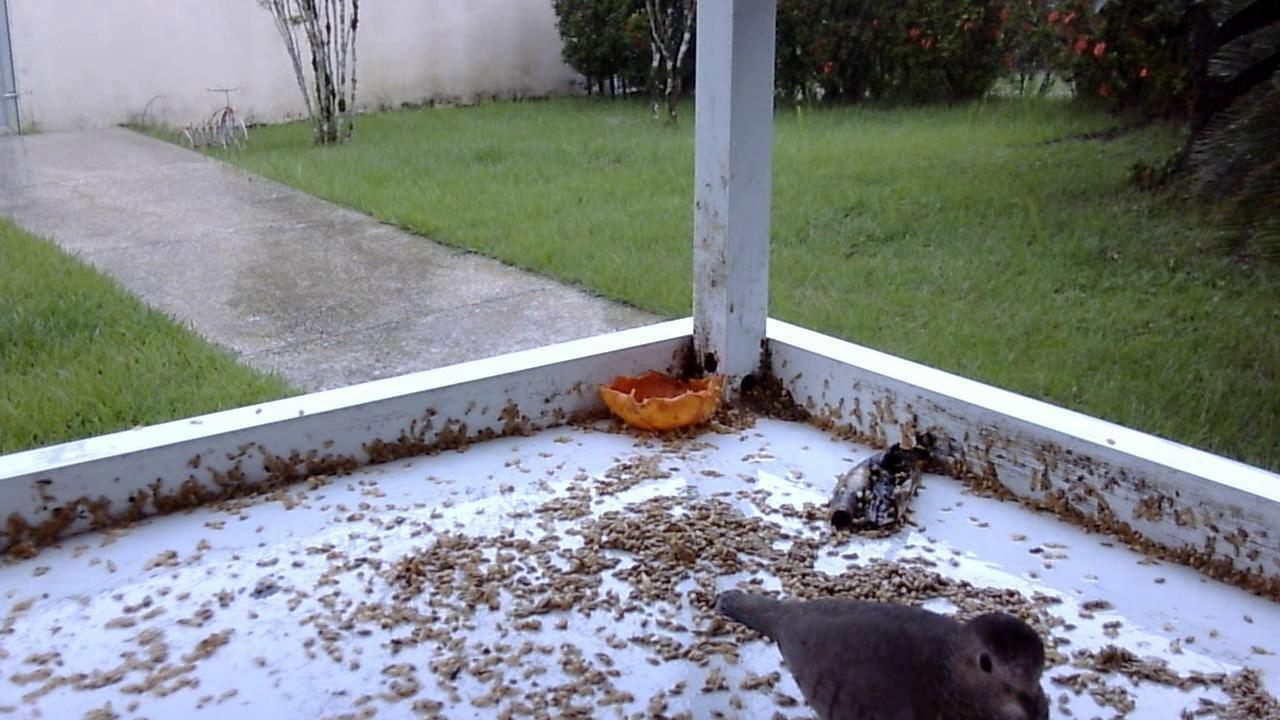rolinha: (706, 581, 1053, 715)
